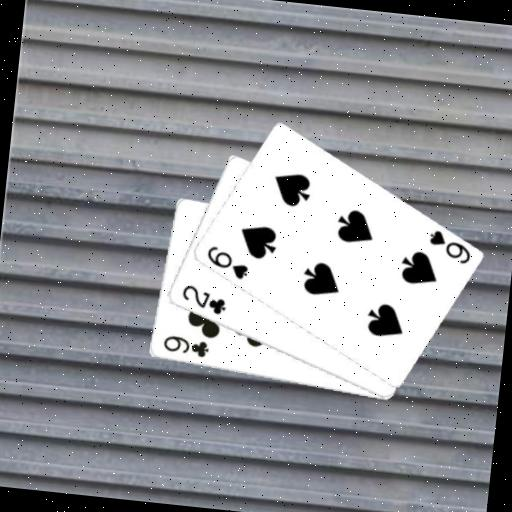2C: (176, 281, 229, 318)
6S: (424, 226, 475, 266), (201, 242, 251, 282)
9C: (159, 332, 212, 361)
